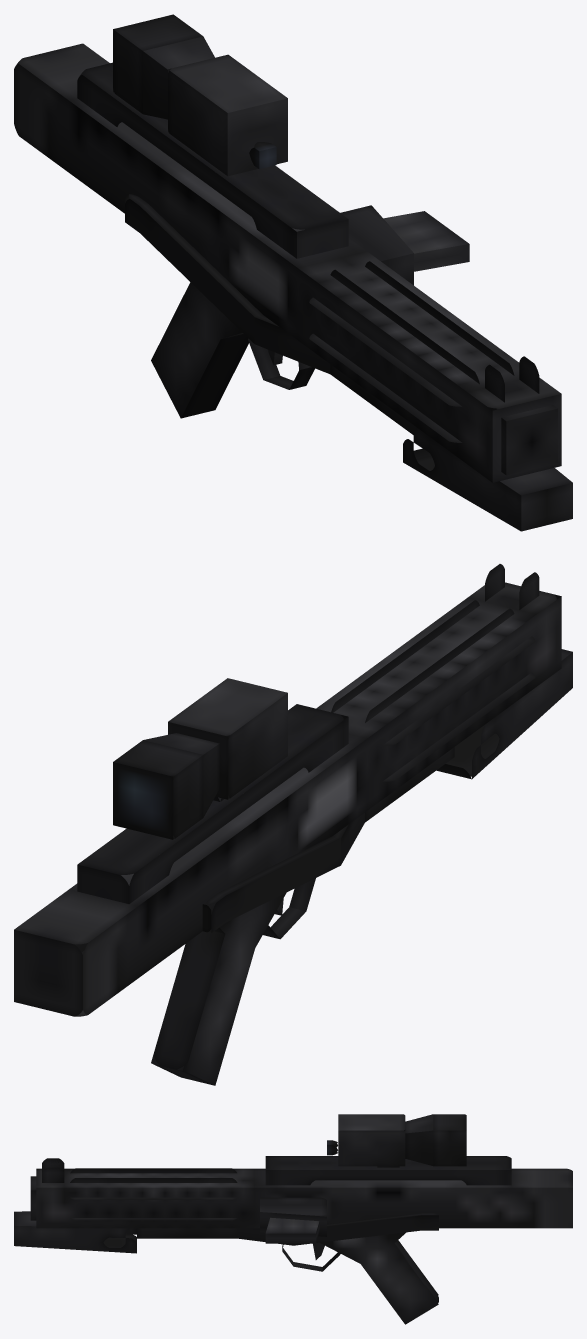
3 views of the same model, one above another, from view 1: azimuth 30°, elevation 25°; view 2: azimuth 150°, elevation 25°; view 3: azimuth 270°, elevation 25° (orthographic). The views are drawn at different scales.
Parts seen in each view (by area): view 1: E11_Plane.004; view 2: E11_Plane.004; view 3: E11_Plane.004.
Boxes of the visible parts, left/top/right/bottom form: E11_Plane.004: left=14, top=14, right=572, bottom=531; E11_Plane.004: left=14, top=564, right=572, bottom=1085; E11_Plane.004: left=14, top=1114, right=572, bottom=1324.
Bounding box in the file's own units: 1.1 × 1.95 × 5.
